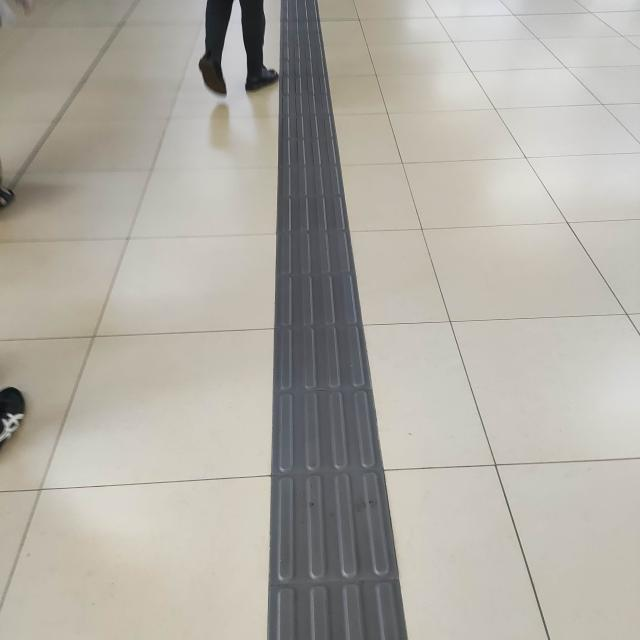lurus: (247, 60, 401, 628)
